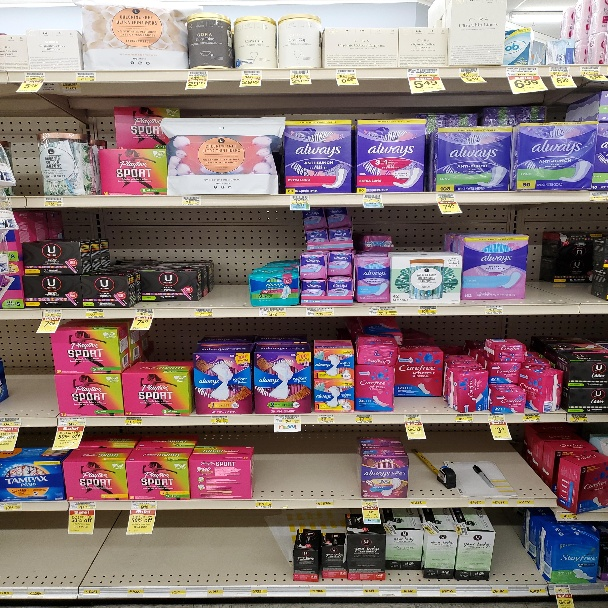All PRICE TAGS: (506, 67, 536, 76), (306, 307, 334, 316), (407, 68, 438, 76), (259, 307, 286, 316), (69, 501, 94, 510), (369, 307, 397, 315), (75, 71, 96, 81), (131, 501, 157, 509), (275, 415, 301, 423), (59, 418, 85, 426), (398, 586, 418, 596), (580, 65, 602, 74), (182, 196, 201, 206), (549, 66, 570, 75), (0, 418, 21, 427), (123, 417, 143, 426), (436, 193, 456, 202), (43, 198, 63, 207), (458, 68, 480, 76), (79, 587, 98, 596), (355, 414, 374, 423), (485, 305, 504, 314), (570, 414, 589, 423), (207, 587, 224, 597), (417, 306, 438, 314), (193, 308, 214, 316), (0, 503, 21, 511), (24, 72, 45, 80), (363, 195, 381, 204), (560, 512, 578, 521), (311, 586, 327, 596), (290, 196, 310, 204), (188, 71, 208, 79), (242, 70, 262, 78), (491, 586, 508, 595), (439, 587, 456, 596), (363, 587, 380, 596), (169, 588, 186, 597), (255, 499, 272, 508), (135, 309, 154, 317), (85, 309, 104, 317), (127, 588, 143, 597), (522, 414, 540, 422), (404, 414, 422, 422), (317, 415, 335, 423), (210, 416, 228, 424), (43, 310, 63, 317), (290, 70, 310, 77), (336, 70, 356, 77), (410, 499, 427, 507), (316, 499, 333, 507), (554, 586, 571, 594), (252, 587, 267, 596), (362, 499, 378, 507), (489, 414, 505, 422), (455, 415, 473, 422), (468, 499, 483, 506), (529, 586, 542, 594)
